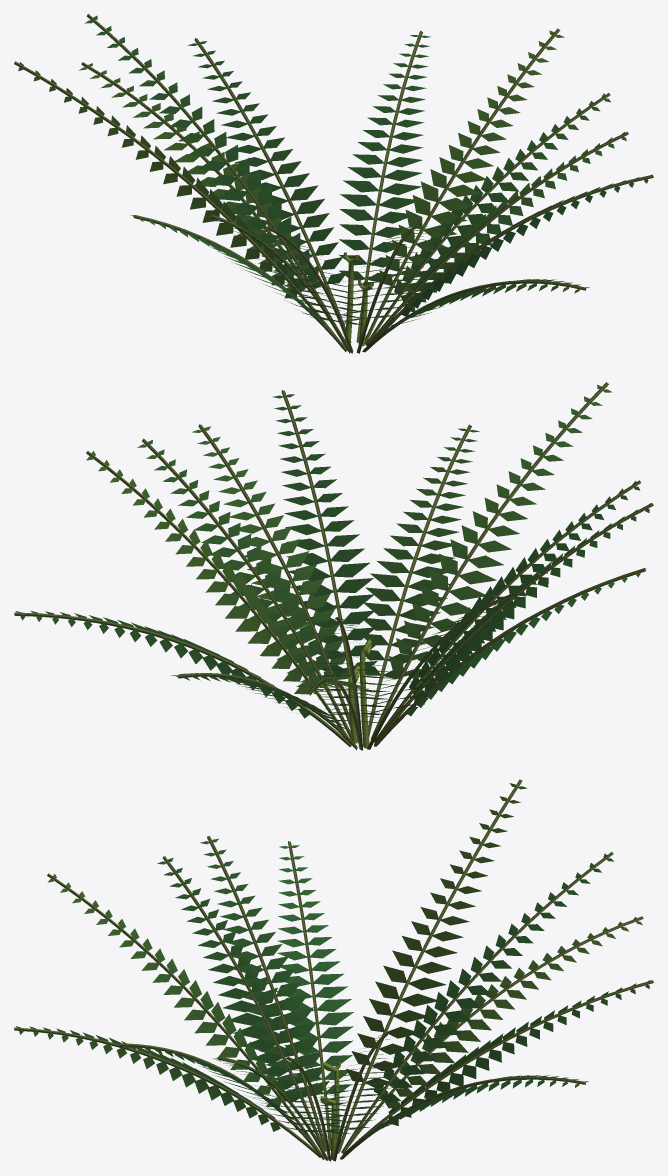
Rendered from fern-sword-b.lod0.glb.
3 views of the same model, one above another, from view 1: azimuth 30°, elevation 25°; view 2: azimuth 150°, elevation 25°; view 3: azimuth 270°, elevation 25° (orthographic). The views are drawn at different scales.
Parts seen in each view (by area): view 1: fern-sword-b.lod0; view 2: fern-sword-b.lod0; view 3: fern-sword-b.lod0.
Part boxes in pixels (box(x1,y1,x2,y2)): fern-sword-b.lod0: box(14, 14, 653, 353); fern-sword-b.lod0: box(14, 382, 653, 750); fern-sword-b.lod0: box(14, 779, 653, 1161).
Bounding box in the file's own units: 1.37 × 0.7543 × 1.66.
